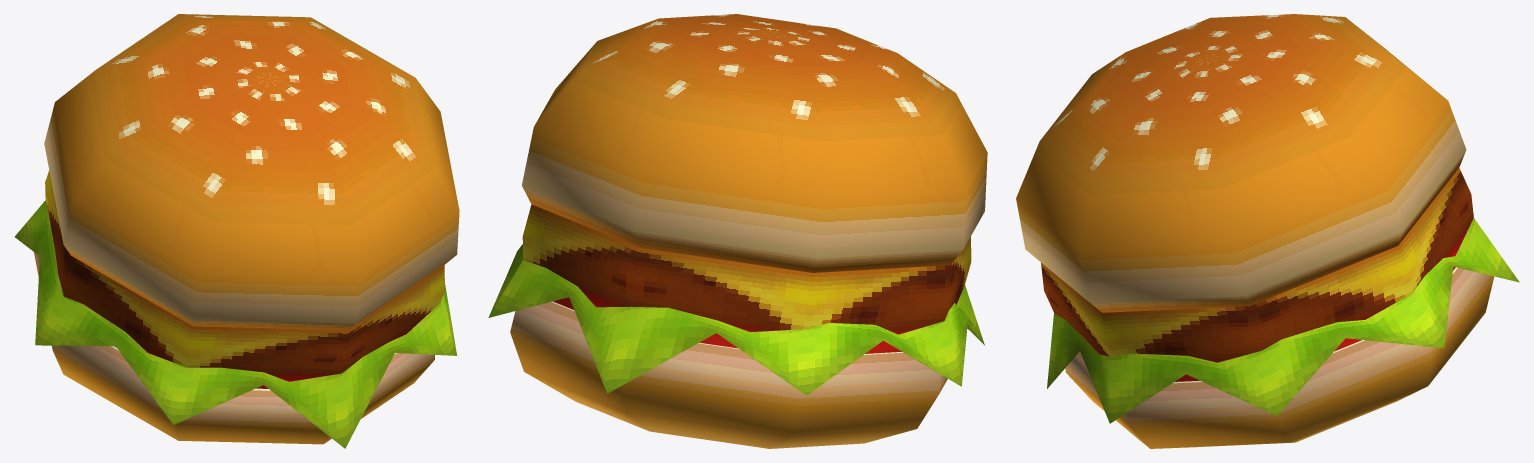
File: TopL.obj
3 renders of one model, left to right at view 1: azimuth 30°, elevation 25°; view 2: azimuth 150°, elevation 25°; view 3: azimuth 270°, elevation 25°, orthographic. The views are drawn at different scales.
Parts seen in each view (by area): view 1: polygon0; view 2: polygon0; view 3: polygon0.
Boxes of the visible parts, x1,y1,x2,y2 form: polygon0: [15, 14, 459, 448]; polygon0: [488, 14, 987, 448]; polygon0: [1016, 14, 1519, 448].
Size of the model in its own units: 0.9785 by 0.8185 by 1.01.
Materials: 1 (1 with a texture image).
